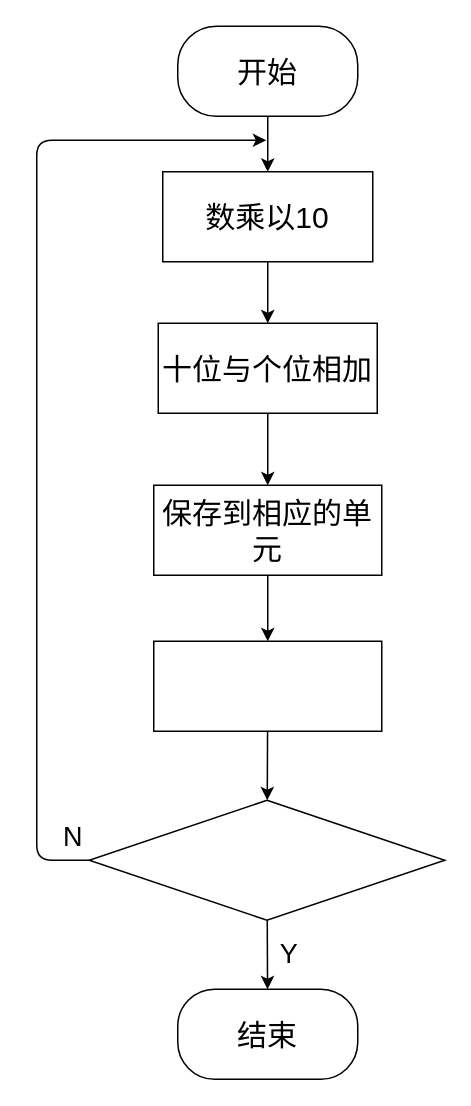
Some shapes in this 471 by 1106 pixel diagram are drawn without their labels. The shapes that lost their labels are listed below. From the top down, each one's centre as x and y in pixels, then its label:
point (267, 685): 送屏幕显示
point (266, 859): 继续？
